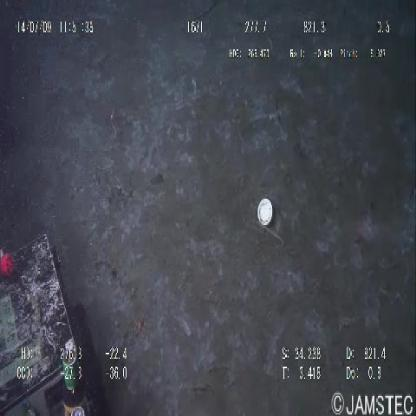Rác: (257, 199, 273, 230)
